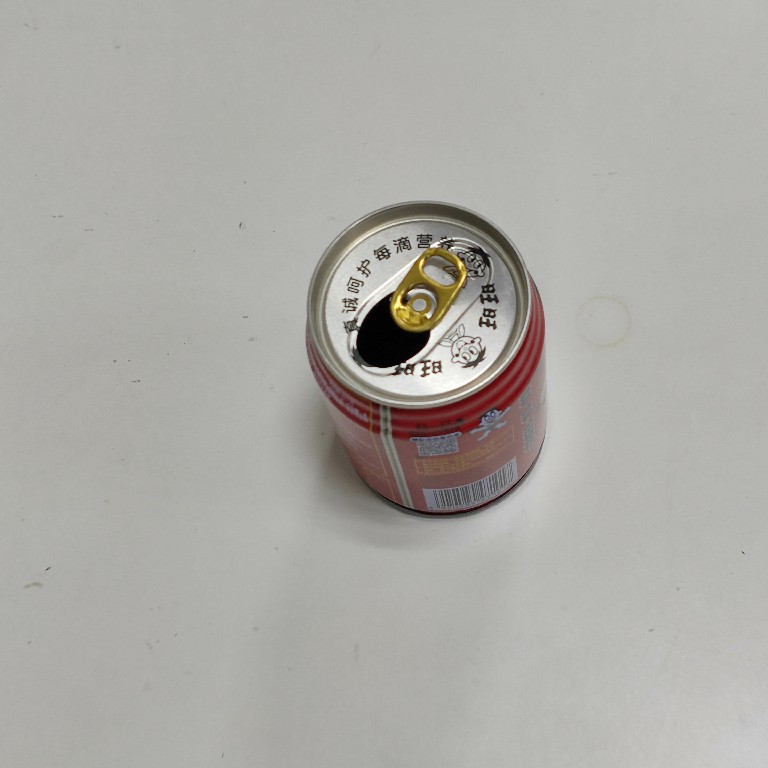can: (297, 195, 551, 521)
